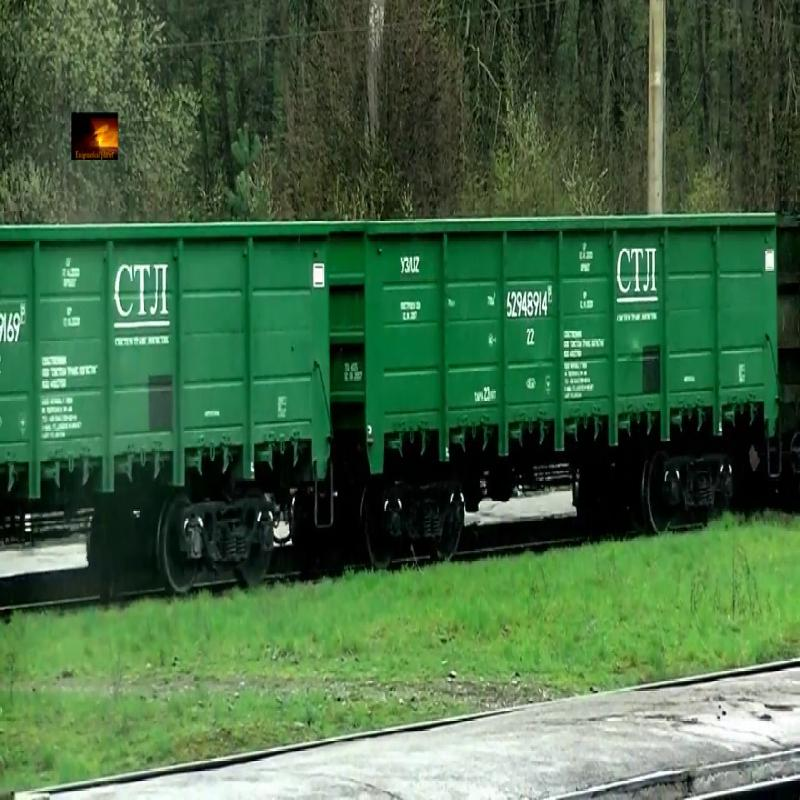train: (333, 209, 780, 494), (1, 219, 331, 515)
